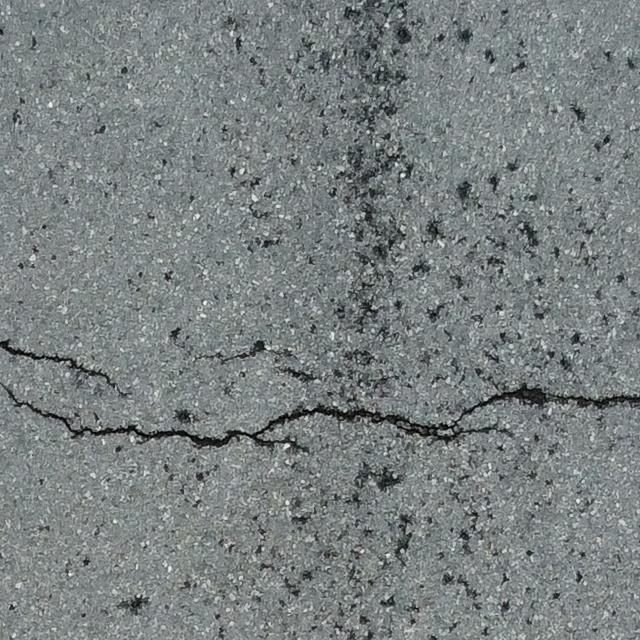TransverseCrack: (1, 382, 640, 454), (1, 341, 129, 398)
